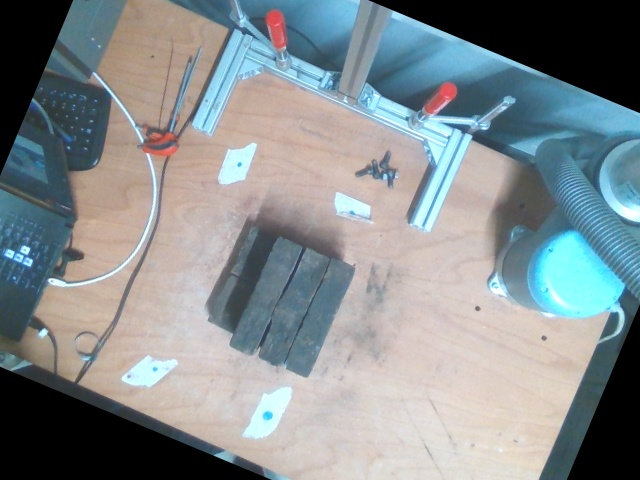brick-side: (284, 256, 355, 379), (229, 236, 301, 356), (259, 248, 328, 369)
